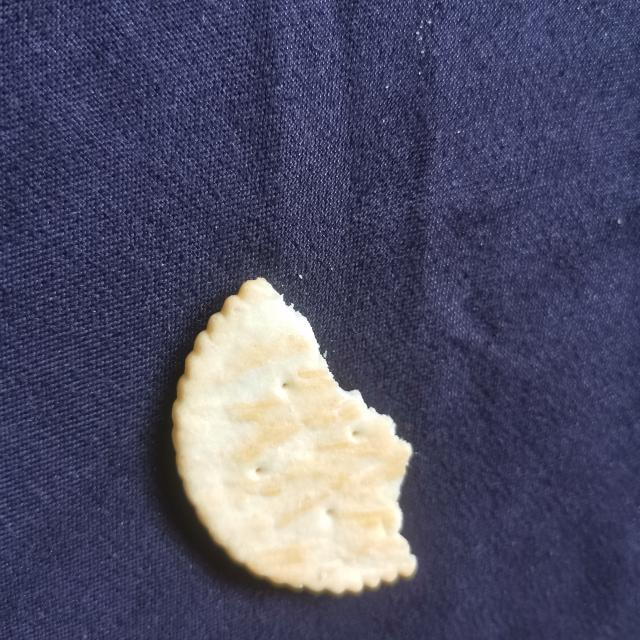Broken: (170, 276, 418, 596)
